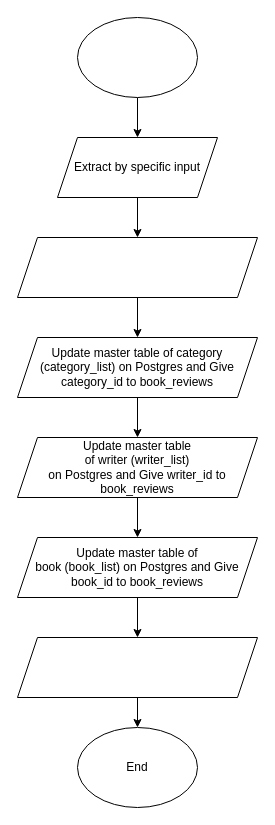
Image size: 275x825. Some labels were removed from this diagram. The centre of each missing label's shape, as x and y in pixels:
"Change the column names to be clear & lower case" goes at (x=137, y=267).
"Insert data to book_reviews table on Postgres" goes at (x=137, y=667).
"Start" goes at (x=137, y=57).
